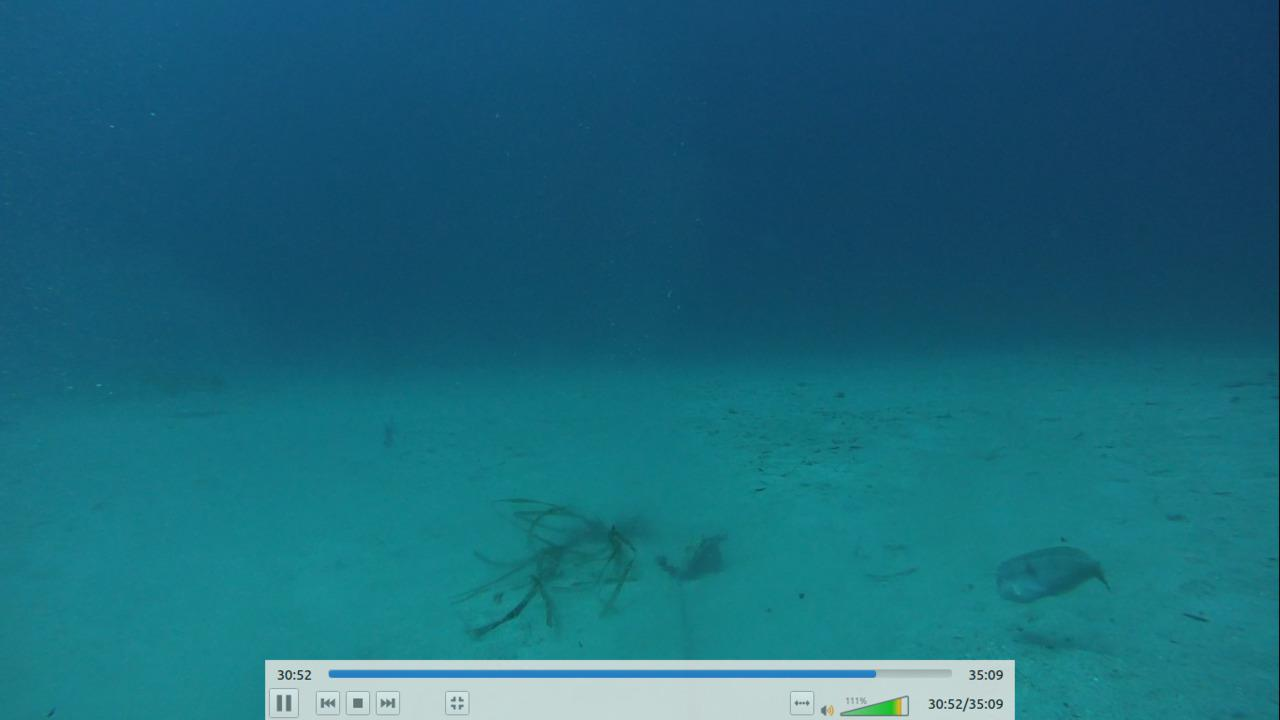raor: (985, 540, 1113, 608)
